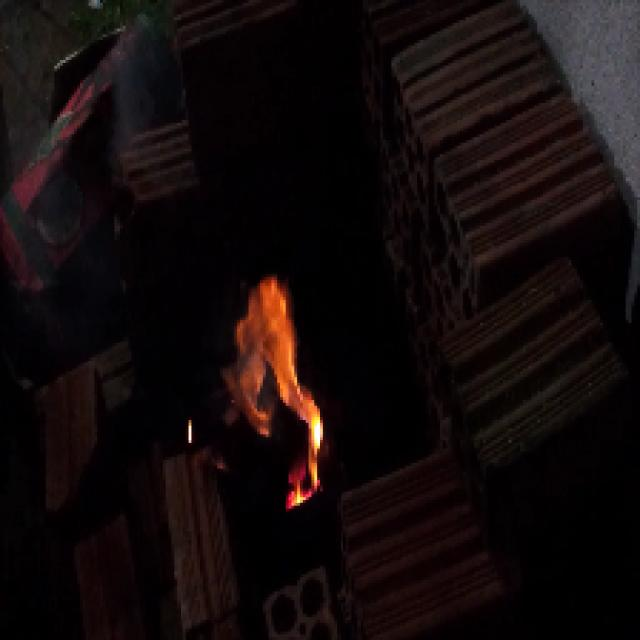fire: (224, 278, 328, 502)
